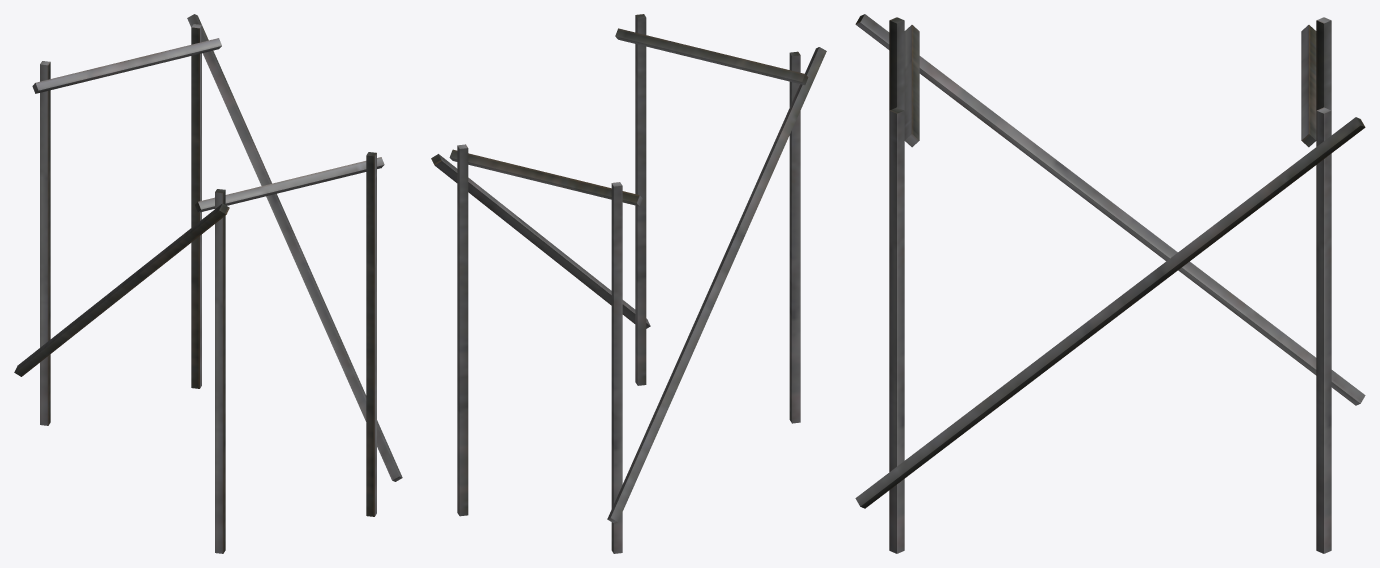
The model's file is Scaffolding01Btm.obj.
3 renders of one model, left to right at view 1: azimuth 30°, elevation 25°; view 2: azimuth 150°, elevation 25°; view 3: azimuth 270°, elevation 25°, orthographic. The views are drawn at different scales.
Parts seen in each view (by area): view 1: Scaffolding01M; view 2: Scaffolding01M; view 3: Scaffolding01M.
Boxes of the visible parts, x1,y1,x2,y2 form: Scaffolding01M: (14, 14, 402, 553); Scaffolding01M: (431, 14, 826, 553); Scaffolding01M: (855, 14, 1365, 553).
Size of the model in its own units: 2.42 by 4.55 by 4.78.
